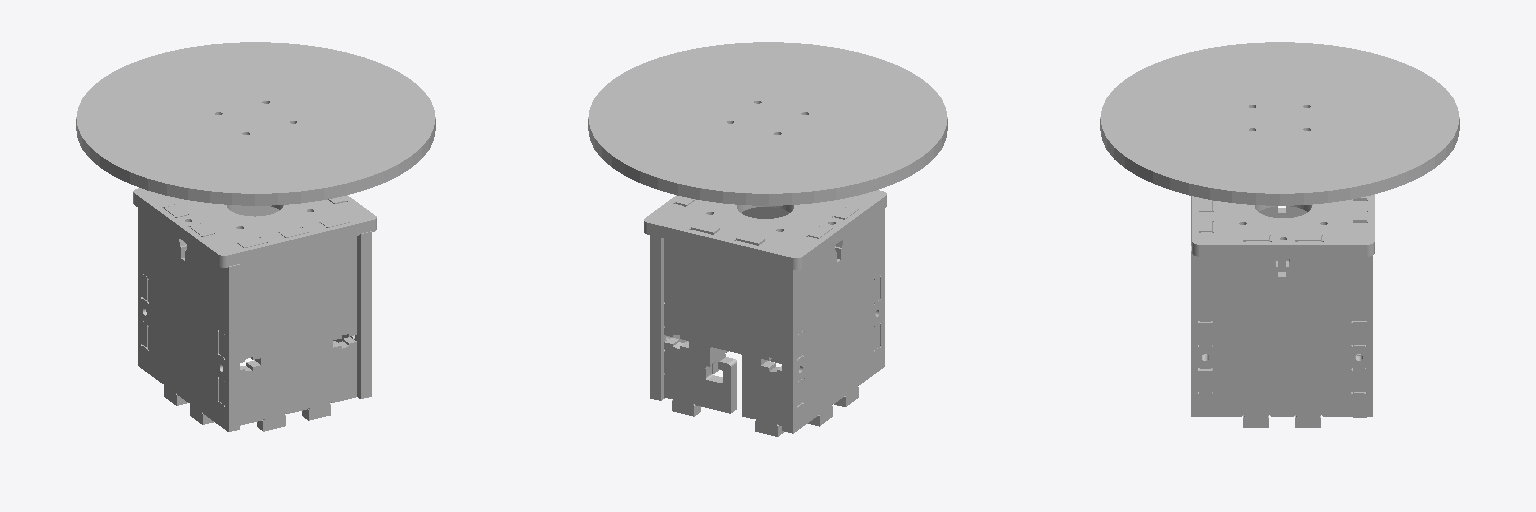
File: GfinalS2.obj
3 views of the same model, side by side, from view 1: azimuth 30°, elevation 25°; view 2: azimuth 150°, elevation 25°; view 3: azimuth 270°, elevation 25° (orthographic).
Visible parts, largest first — view 1: Mesh.001_Mesh.010_Mesh.001_Mes; view 2: Mesh.001_Mesh.010_Mesh.001_Mes; view 3: Mesh.001_Mesh.010_Mesh.001_Mes.
Boxes of the visible parts, box(x1,y1,x2,y2) form: Mesh.001_Mesh.010_Mesh.001_Mes: box(76, 42, 435, 431); Mesh.001_Mesh.010_Mesh.001_Mes: box(588, 42, 947, 436); Mesh.001_Mesh.010_Mesh.001_Mes: box(1100, 42, 1459, 427).
Bounding box in the file's own units: 5.43 × 4.61 × 5.43.